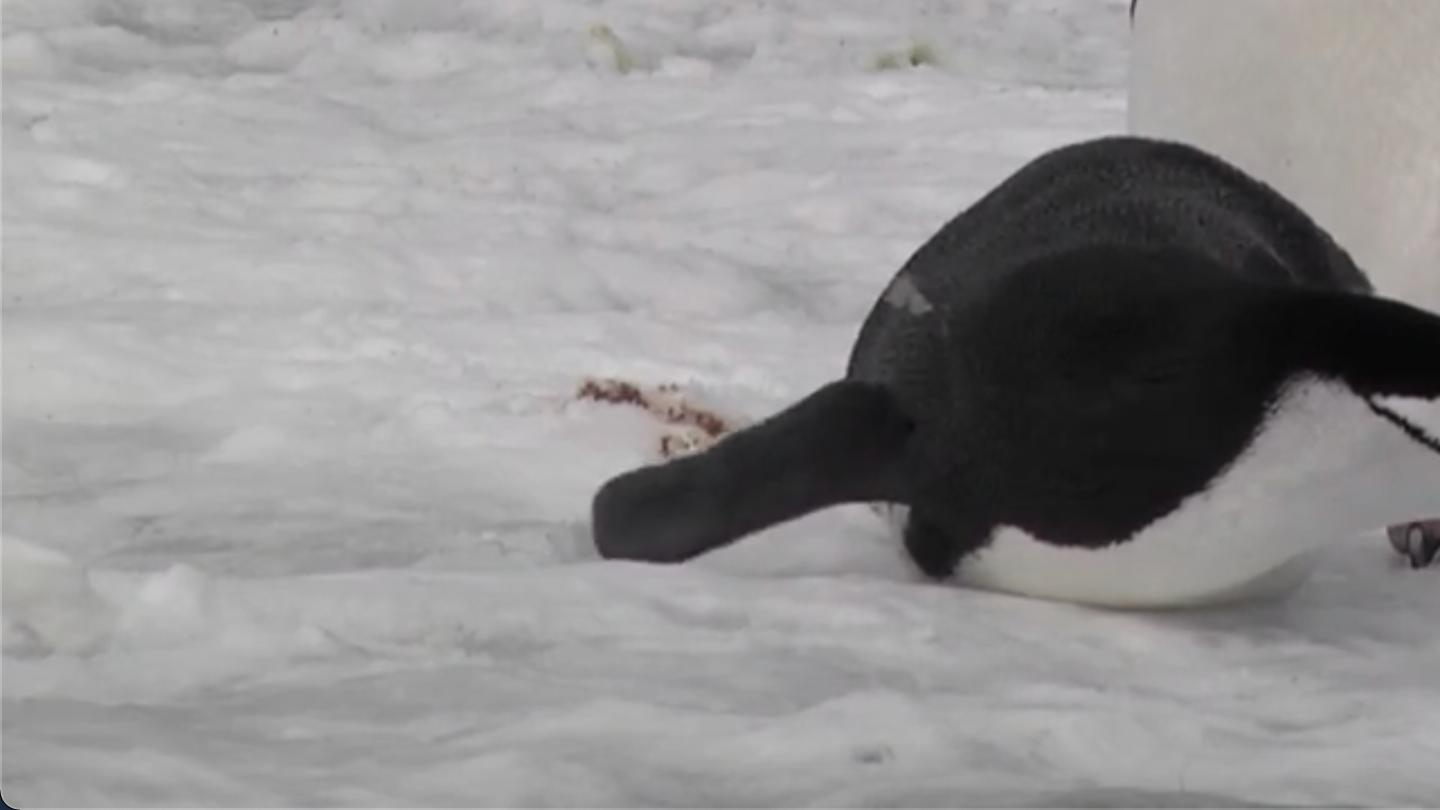Chinstrap Penguin: (561, 105, 1440, 583), (1146, 0, 1440, 88)
